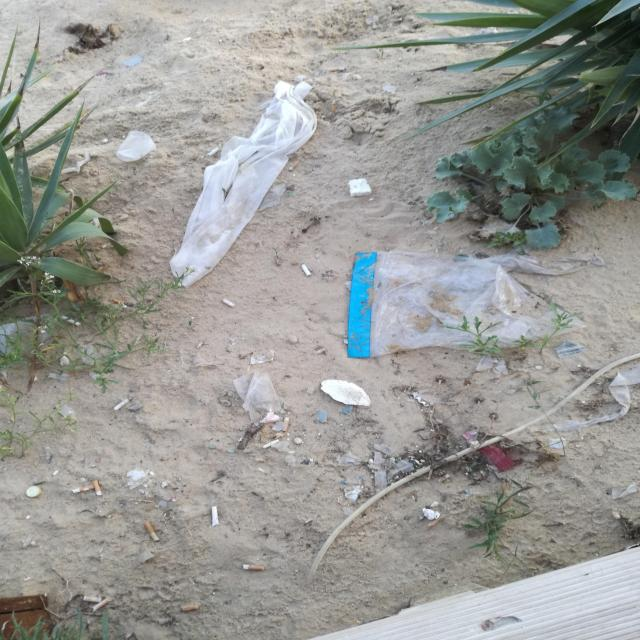litter: (172, 81, 315, 284)
